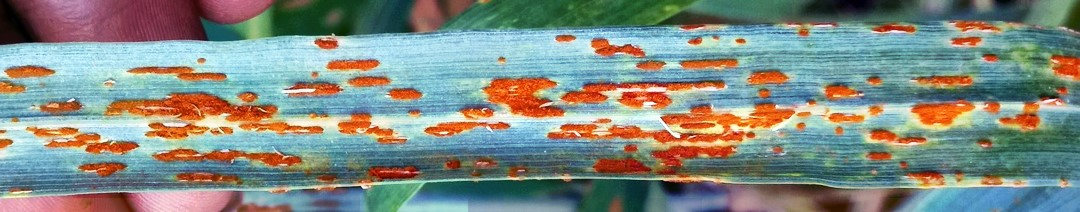Leaf Rust: (22, 17, 1014, 189)
